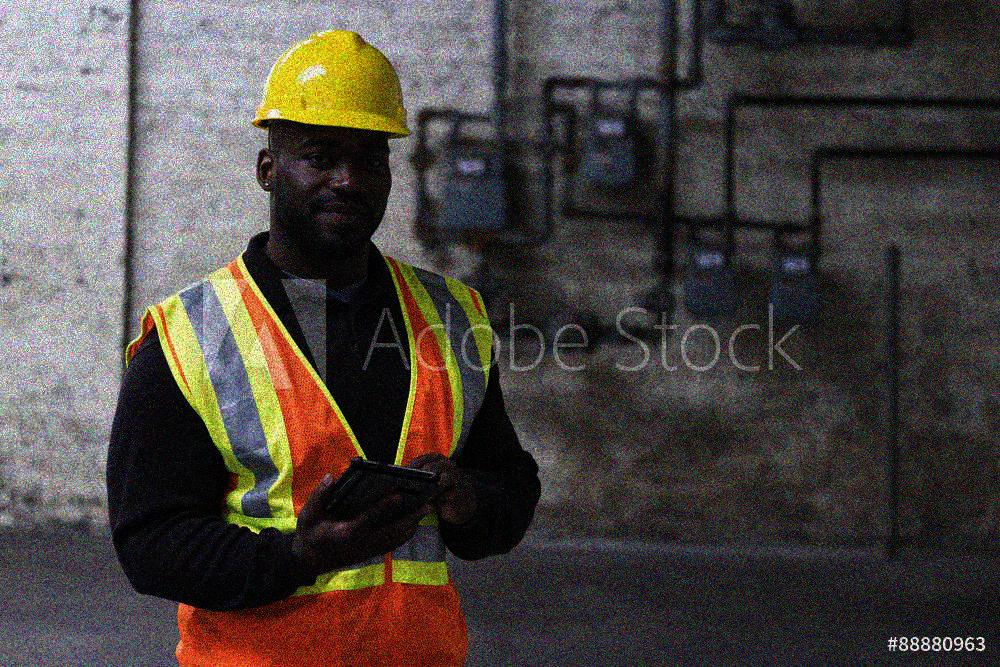helmet: (252, 30, 411, 247)
